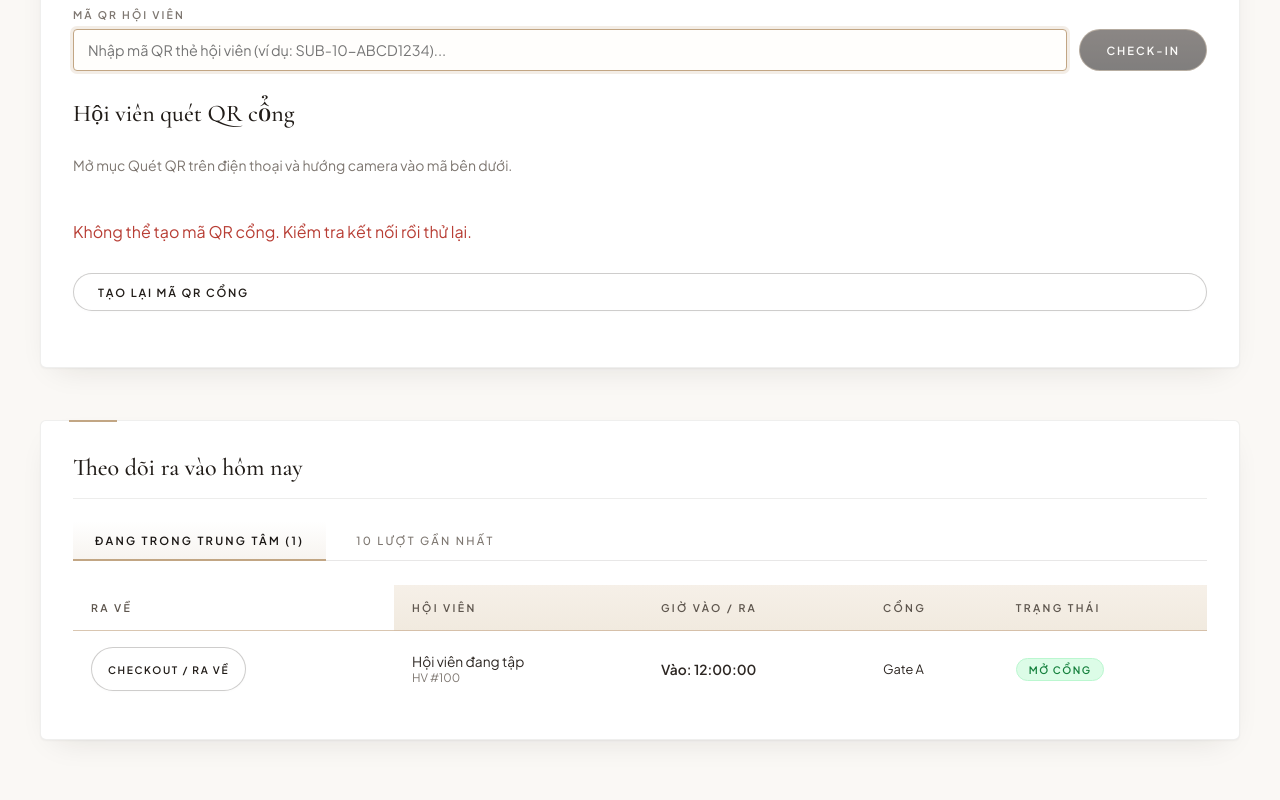
Test: keeps checkout available after a server failure and explains the error
This screenshot has width=1280, height=800.
(page scrolled)
Click the button "Checkout / Ra về". click: {"x": 169, "y": 670}
box: [91,648,246,692]
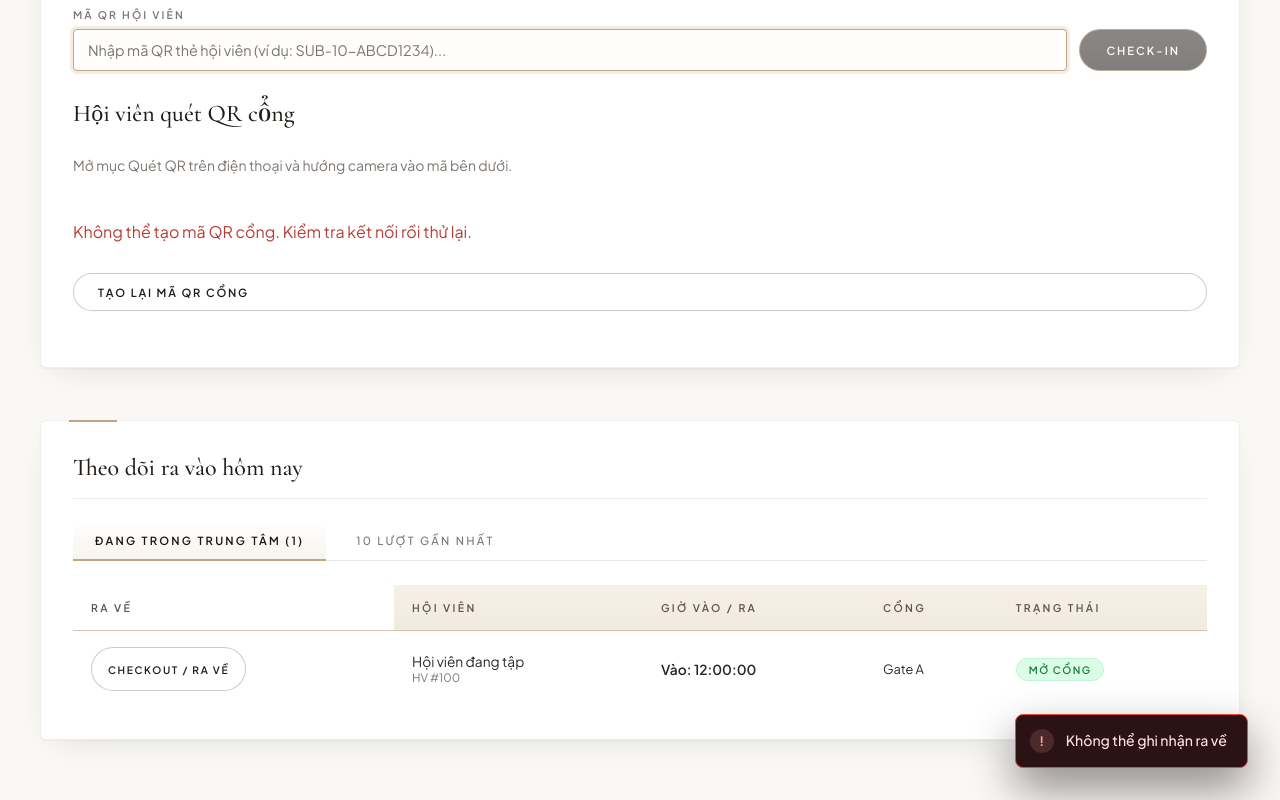
expect the message with class "sol-toast--error" shows "Không thể ghi nhận ra về": met, box [1066,731,1227,749]
